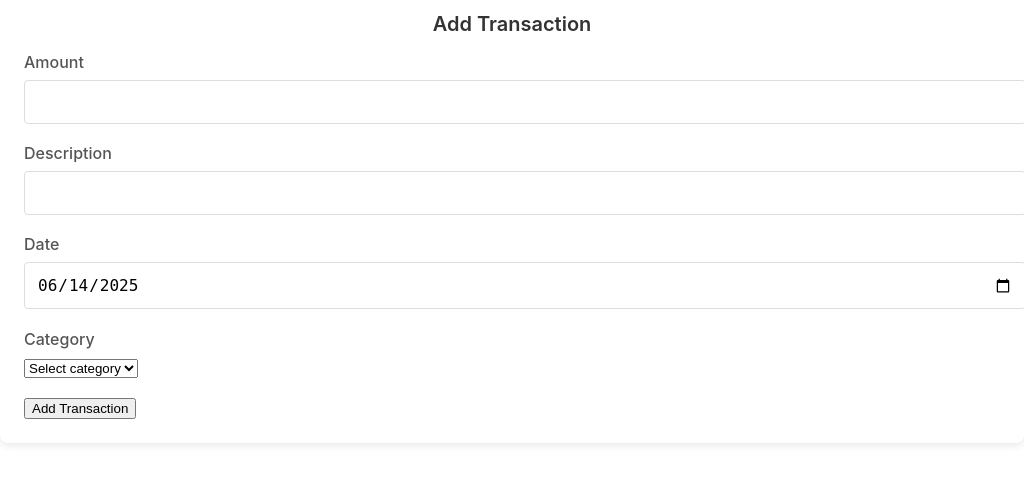
TransactionForm › renders form and submits data
The image size is (1036, 499).
Type "100.00" into the number field labelled "Amount" at (524, 102), box [24,80,1024,124]
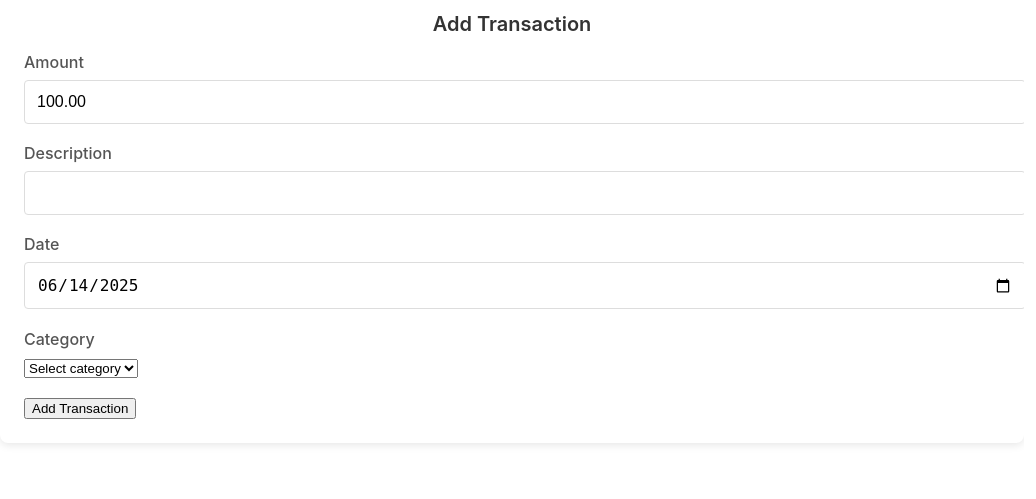
Type "Test" into the field labelled "Description" at (524, 193), box [24,171,1024,215]
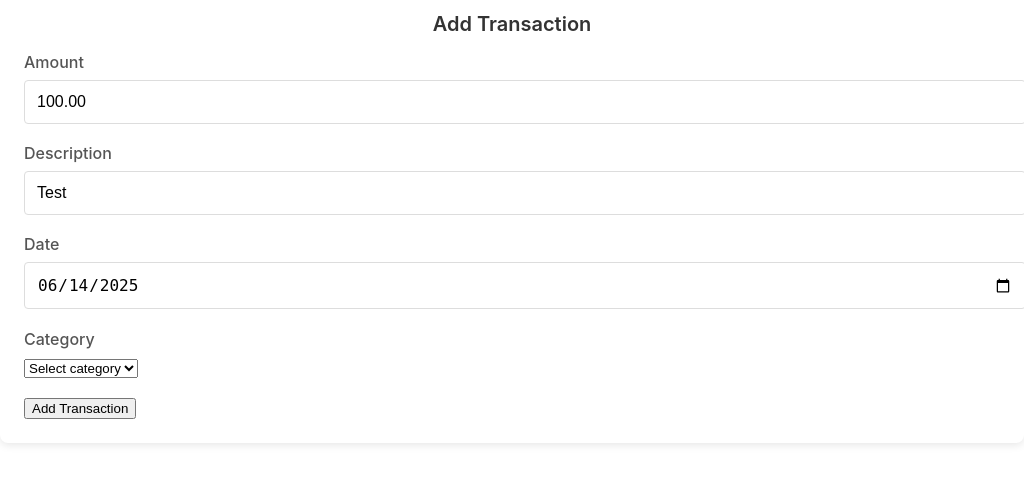
Select "Food" in the dropdown labelled "Category" at (81, 368), box [24,359,138,378]
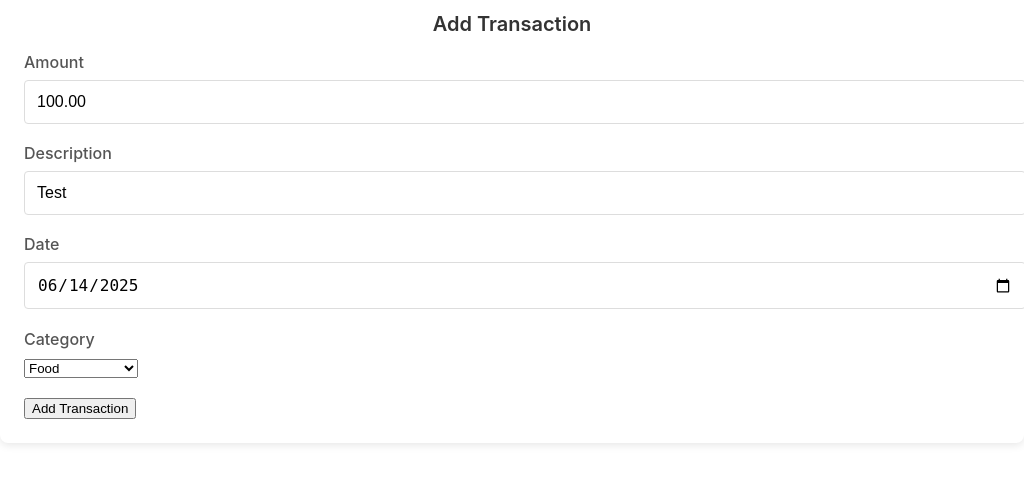
Click the button "Add Transaction" at (80, 408), box [24,398,136,419]
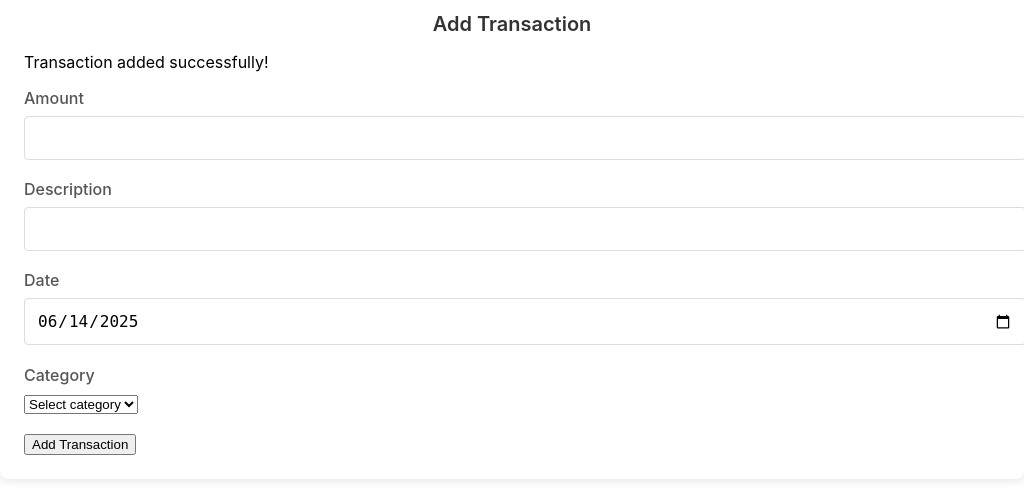
Result: the text "Transaction added successfully!" is shown at [24,52,268,72]
